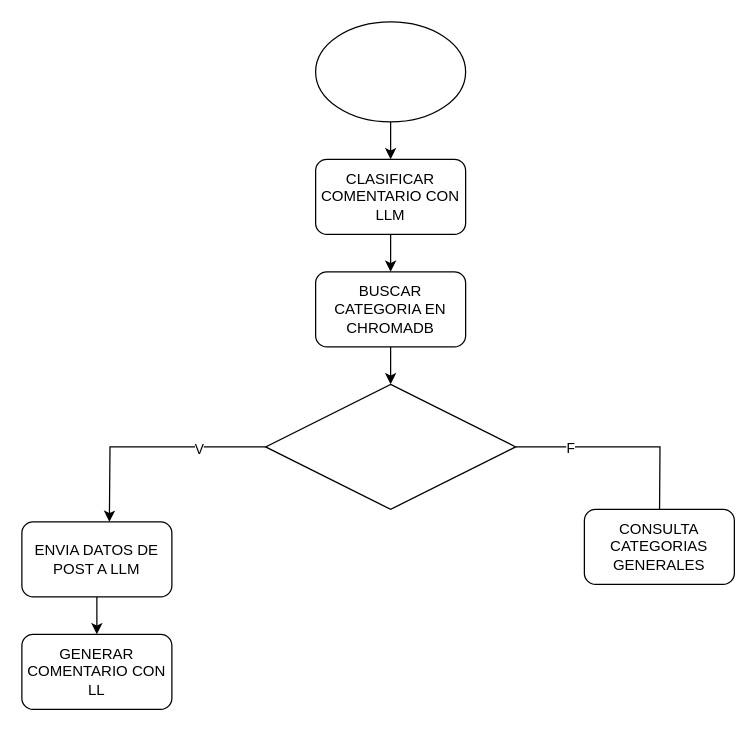
Some shapes in this 756 by 731 pixel diagram are drawn without their labels. Each missing label, with the centre of its shape:
INGRESAR COMENTARIO: (x=390, y=71)
¿CATEGORIA ESTA EN CHROMA_POST?: (x=390, y=446)
